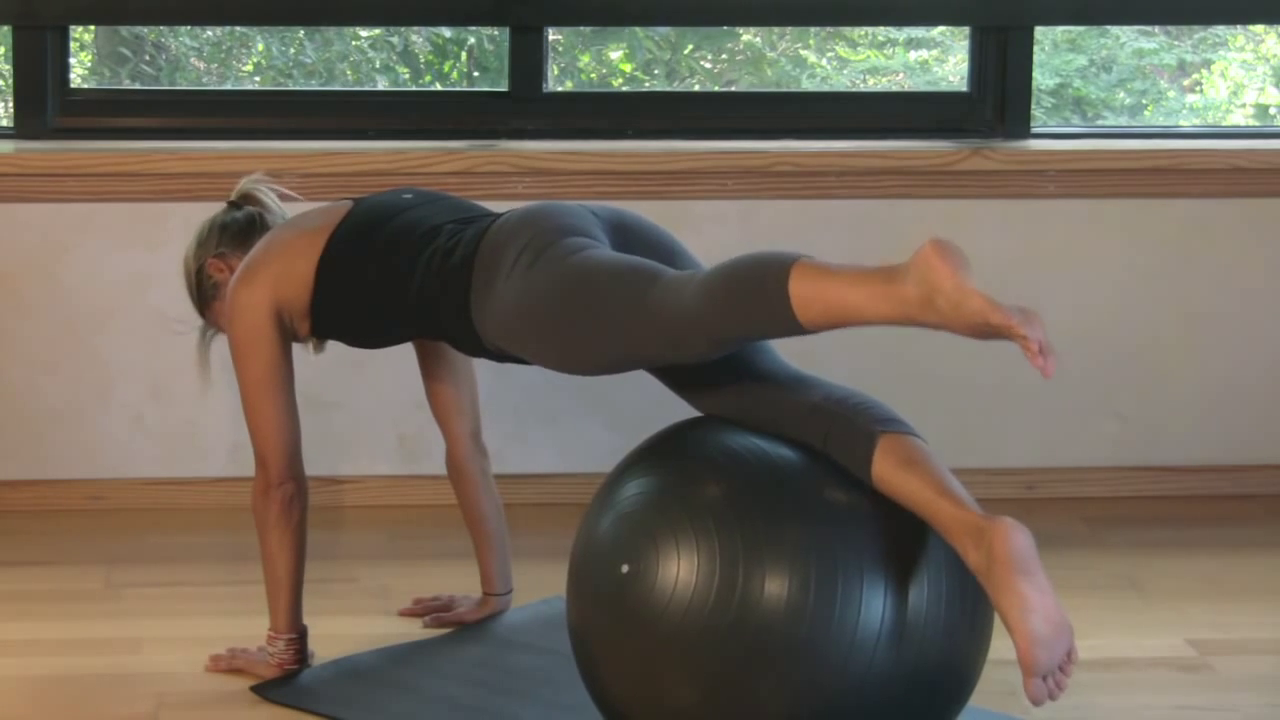yogaball: (559, 413, 1002, 720)
